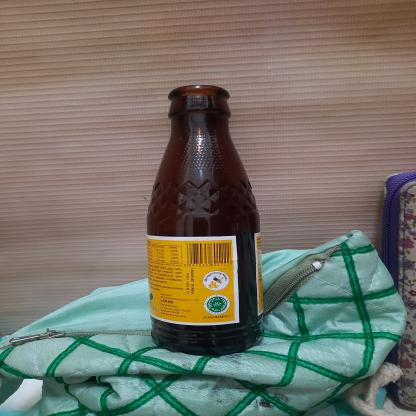keyboard: (139, 81, 269, 361)
